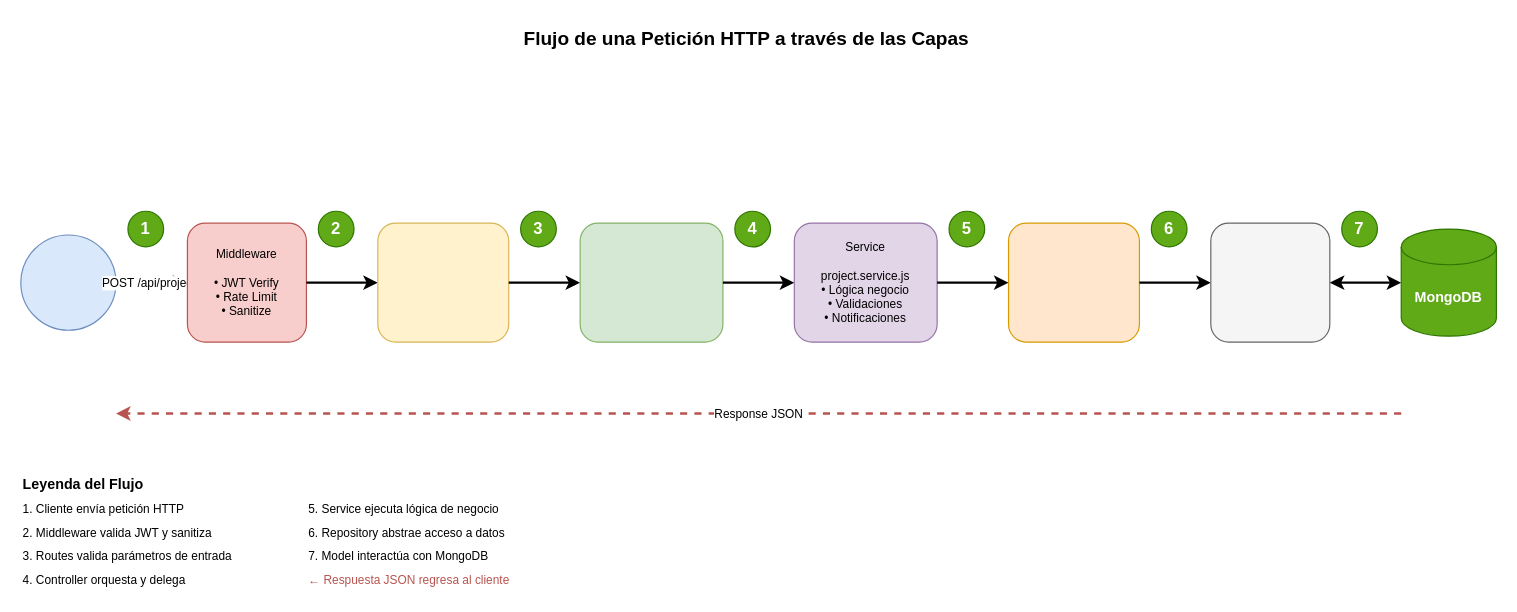
Some shapes in this 1517 by 612 pixel diagram are drawn without their labels. The box of each missing label's shape, as (x1, y1, x2, y2) in pixels:
Cliente (React): (20, 234, 116, 330)
Controller project.controller.js • createProject() • Manejo errores: (579, 222, 723, 342)
Model project.model.js • Schema • Mongoose: (1210, 222, 1330, 342)
Repository project.repository.js • CRUD • Queries: (1007, 222, 1139, 342)
Routes project.routes.js • Validación • express-validator: (377, 222, 509, 342)
